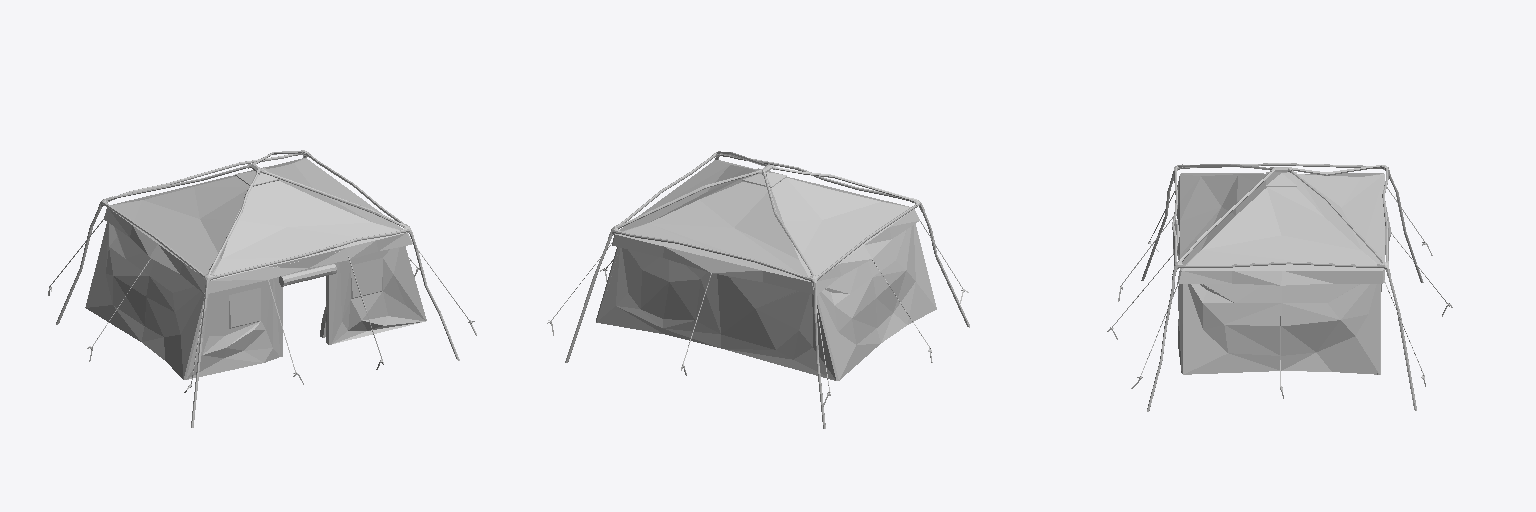
The model's file is Tent_1.obj.
3 views of the same model, side by side, from view 1: azimuth 30°, elevation 25°; view 2: azimuth 150°, elevation 25°; view 3: azimuth 270°, elevation 25° (orthographic).
Visible parts, largest first — view 1: tent_exterior, tent_interior; view 2: tent_exterior, tent_interior; view 3: tent_exterior, tent_interior.
Boxes of the visible parts, x1,y1,x2,y2 form: tent_exterior: [48, 150, 476, 427]; tent_interior: [86, 227, 421, 378]; tent_exterior: [547, 151, 969, 428]; tent_interior: [596, 247, 936, 380]; tent_exterior: [1107, 163, 1452, 411]; tent_interior: [1178, 284, 1381, 374].
Bounding box in the file's own units: 20.16 × 10.31 × 18.09.